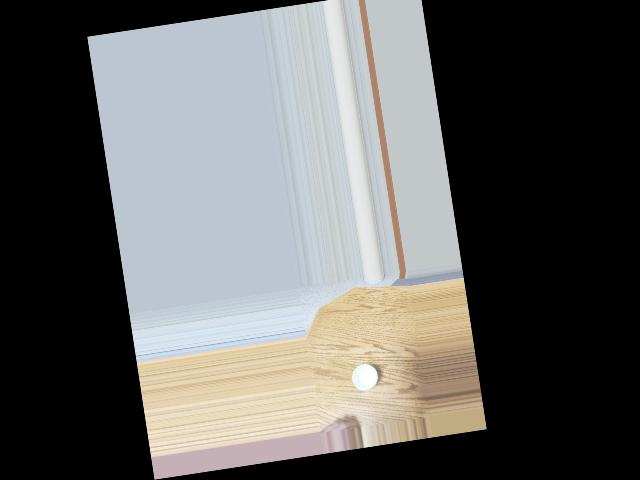cotage: (345, 360, 379, 397)
